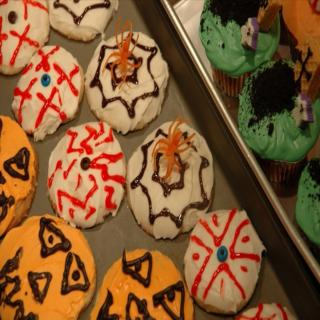Cake: (0, 216, 97, 320), (128, 125, 216, 239), (83, 19, 171, 131), (238, 62, 320, 182), (46, 120, 128, 230), (182, 208, 264, 316), (197, 0, 280, 95), (90, 252, 194, 320), (11, 44, 83, 140), (0, 112, 40, 235), (0, 0, 48, 75), (46, 0, 116, 40), (295, 157, 320, 245), (238, 304, 290, 320)
Muffin: (0, 0, 297, 320), (199, 0, 319, 265)
